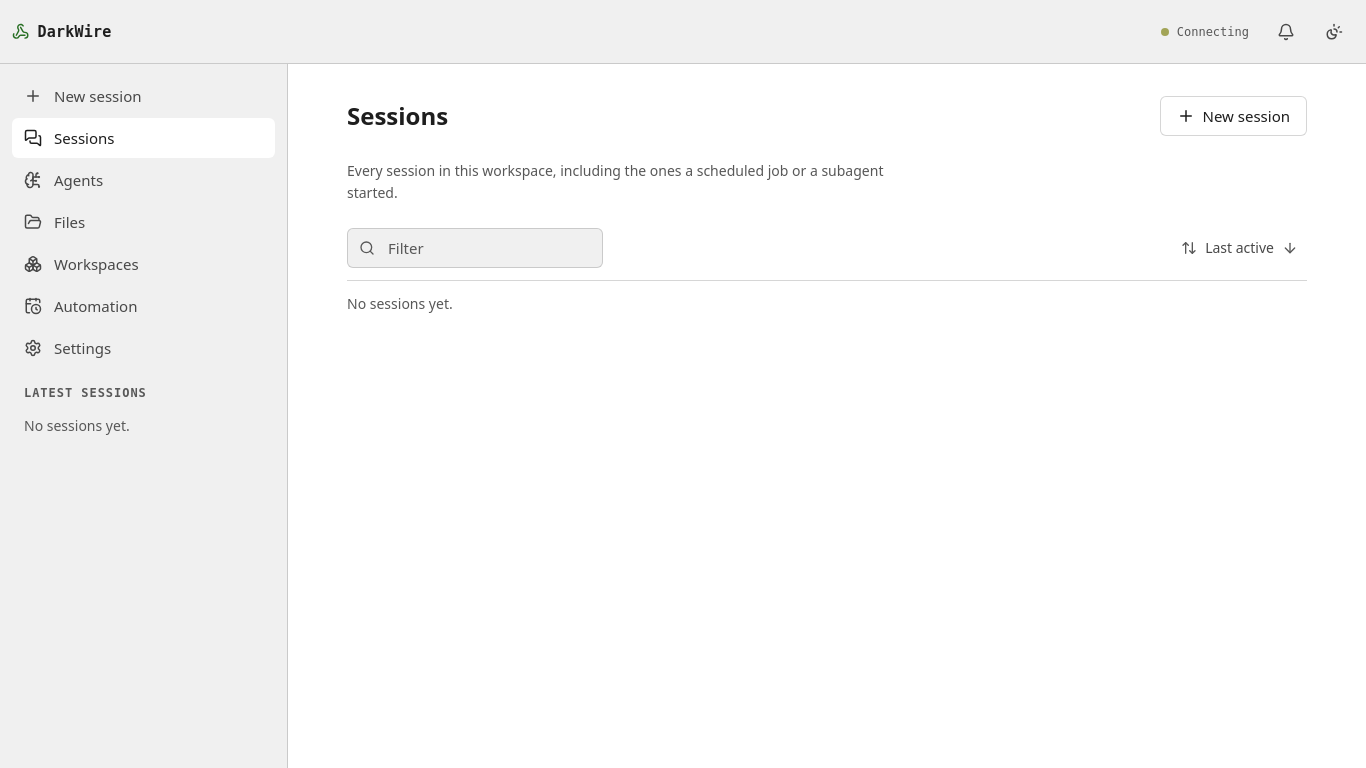
Scenario: searching sessions › tells an empty workspace apart from a search that matched nothing
The image size is (1366, 768).
expect the list item "No sessions yet." is shown: met, box [24,416,130,435]
Type "login" into the search field named "Filter sessions".
click(475, 248); type("login")  # box [347,228,603,268]
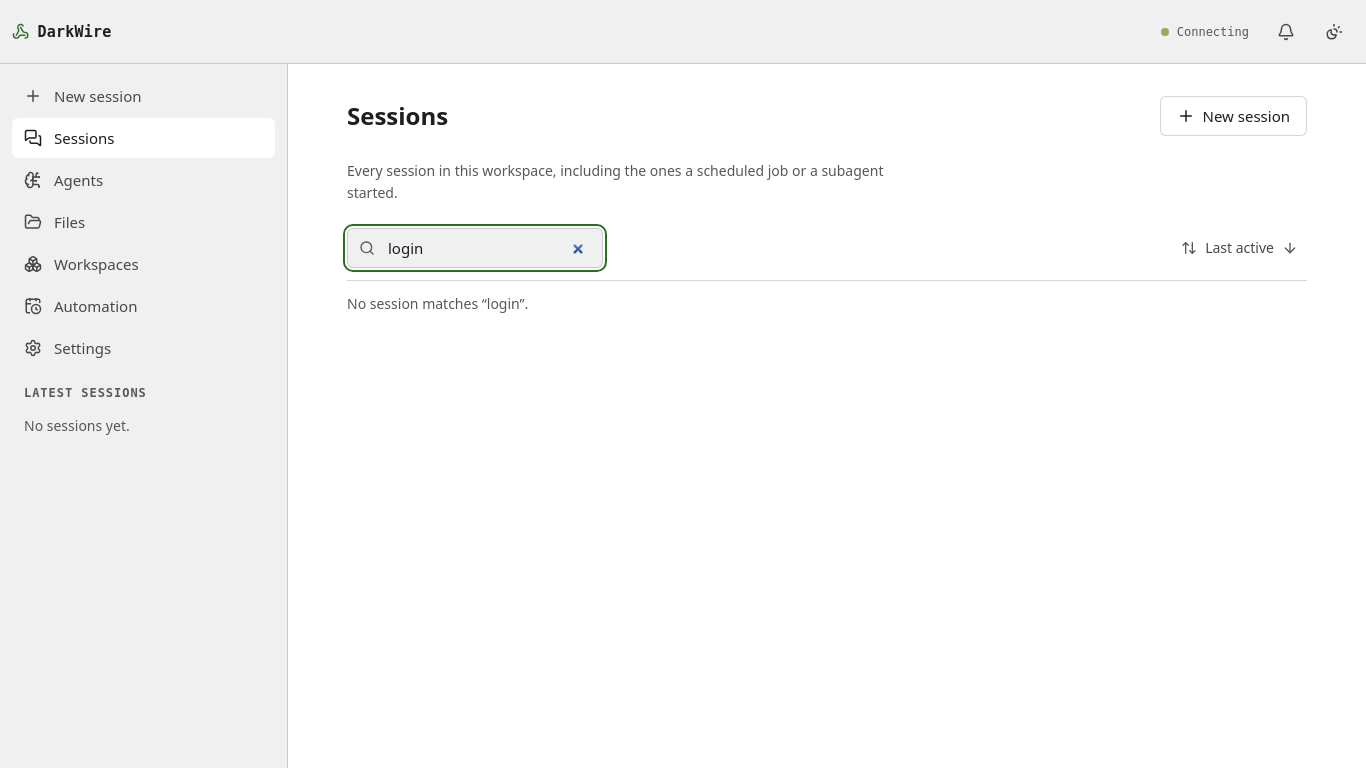
expect the text "No session matches “login”." is shown: met, box [347,294,528,313]
